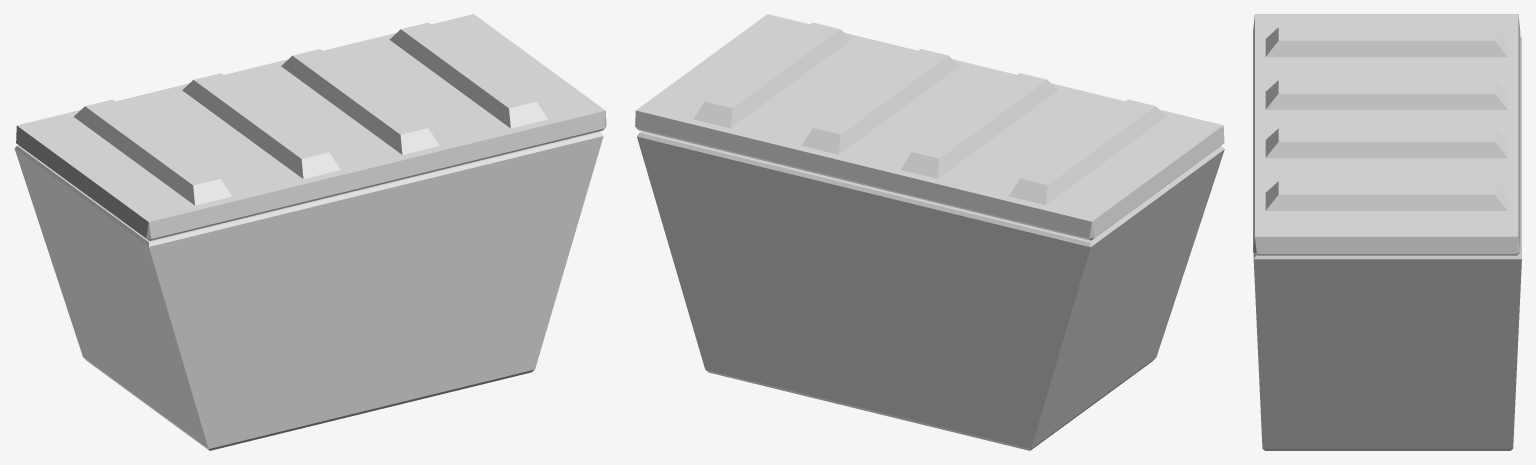
Rendered from Bin.FBX.
3 views of the same model, side by side, from view 1: azimuth 30°, elevation 25°; view 2: azimuth 150°, elevation 25°; view 3: azimuth 270°, elevation 25° (orthographic).
Visible parts, largest first — view 1: Bin, Bin_cover; view 2: Bin, Bin_cover; view 3: Bin_cover, Bin.
Boxes of the visible parts, x1=… form: Bin: x1=14, y1=131, x2=603, y2=450; Bin_cover: x1=16, y1=14, x2=606, y2=240; Bin: x1=637, y1=131, x2=1224, y2=450; Bin_cover: x1=635, y1=14, x2=1224, y2=240; Bin_cover: x1=1253, y1=14, x2=1520, y2=255; Bin: x1=1253, y1=36, x2=1521, y2=450.
Size of the model in its own units: 423 by 231 by 214.
